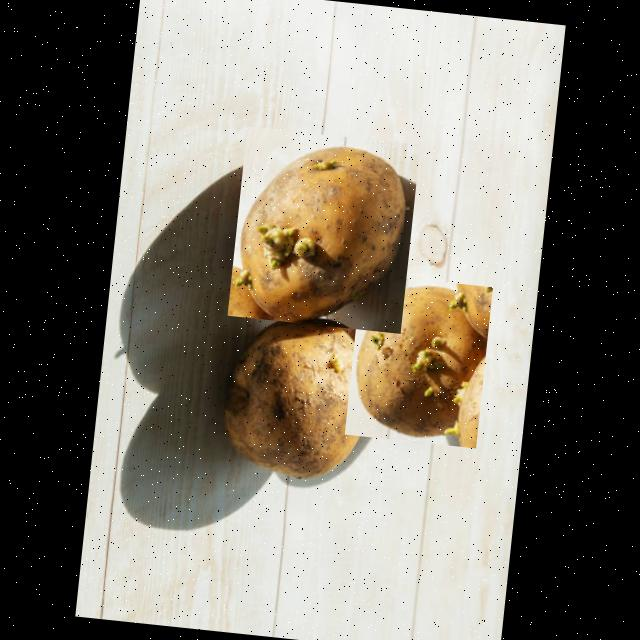Sprouted potato: (227, 125, 420, 332), (206, 298, 400, 502), (344, 272, 492, 447)
